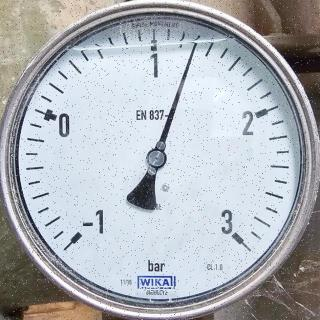gauge: (0, 0, 320, 320), (217, 217, 251, 251), (63, 218, 93, 254), (145, 147, 167, 169), (190, 40, 200, 51)
